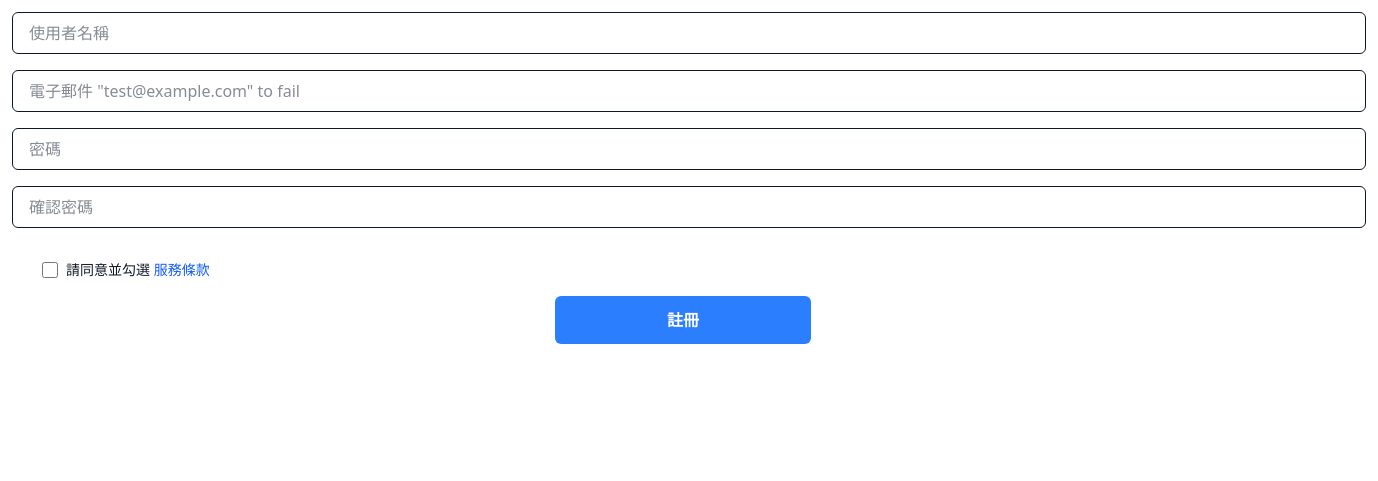
RegisterForm 整合測試 › 當使用者未輸入任何資料就提交時，應顯示所有驗證錯誤訊息
The width and height of the screenshot is (1378, 481).
Click the button "註冊" at (683, 320), box [555,296,811,344]
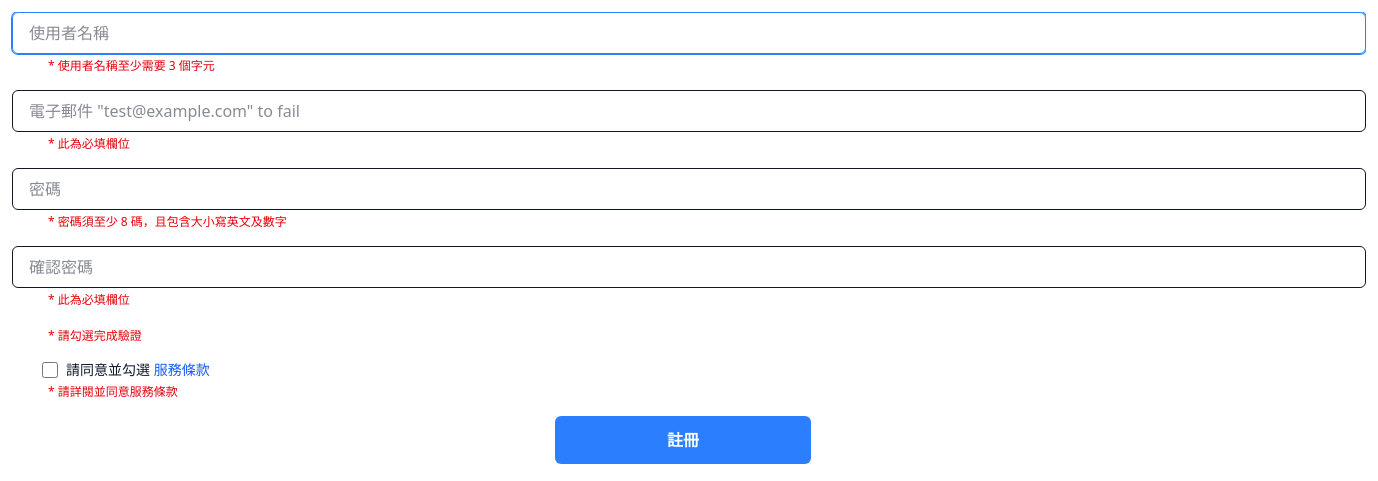
Result: the text "* 使用者名稱至少需要 3 個字元" is shown at [48,57,215,74]
Result: the text "* 此為必填欄位" is shown 2 times at [48,135,130,152]; [48,292,130,308]
Result: the text "* 密碼須至少 8 碼，且包含大小寫英文及數字" is shown at [48,214,287,230]
